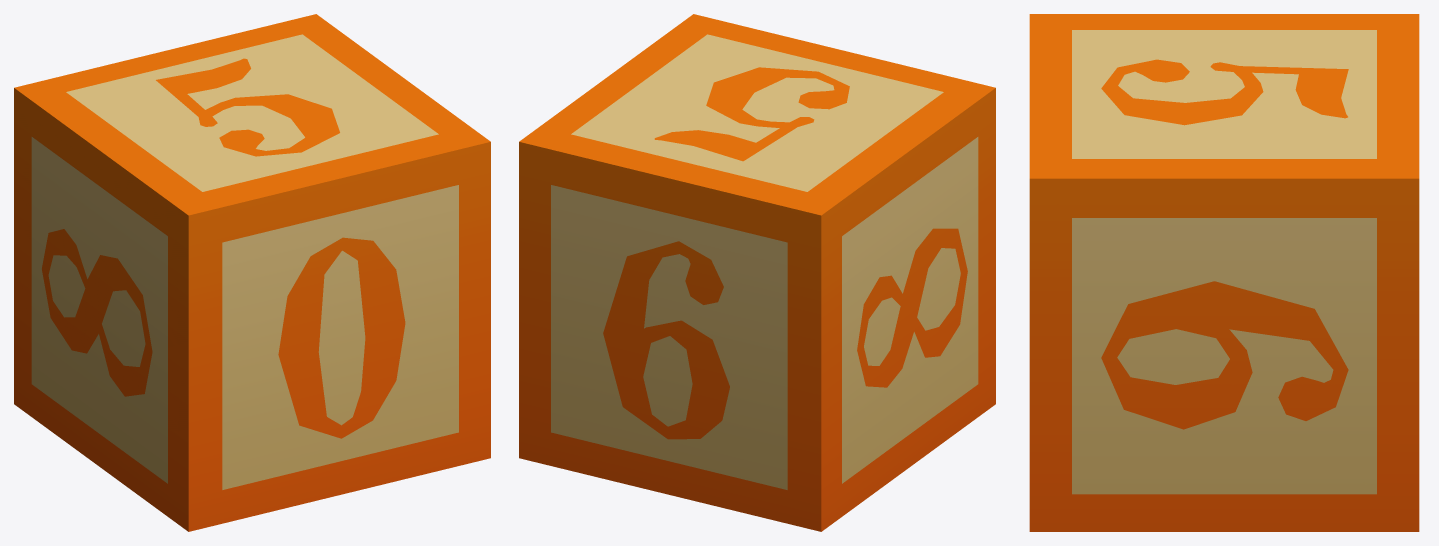
3 renders of one model, left to right at view 1: azimuth 30°, elevation 25°; view 2: azimuth 150°, elevation 25°; view 3: azimuth 270°, elevation 25°, orthographic. The views are drawn at different scales.
Parts seen in each view (by area): view 1: cube_567890; view 2: cube_567890; view 3: cube_567890.
Part boxes in pixels (box(x1,y1,x2,y2)): cube_567890: box(14, 14, 490, 531); cube_567890: box(519, 14, 995, 531); cube_567890: box(1029, 14, 1419, 531).
Size of the model in its own units: 6.53 by 6.53 by 6.53.
